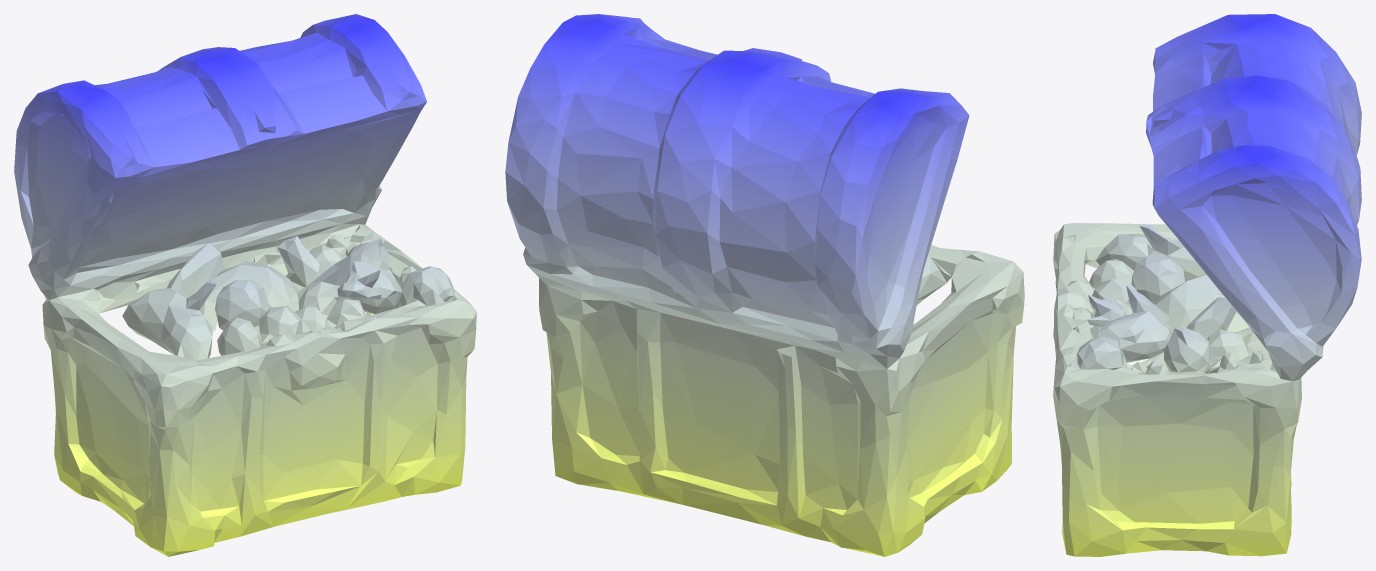
The model's file is 10_cyb_laser_gradient_fish_scales_2962_2026_10_03_e6e8ed.glb.
3 views of the same model, side by side, from view 1: azimuth 30°, elevation 25°; view 2: azimuth 150°, elevation 25°; view 3: azimuth 270°, elevation 25° (orthographic). The views are drawn at different scales.
Parts seen in each view (by area): view 1: geometry_0; view 2: geometry_0; view 3: geometry_0.
Part boxes in pixels (x1=…): geometry_0: x1=14, y1=14, x2=476, y2=556; geometry_0: x1=505, y1=14, x2=1024, y2=556; geometry_0: x1=1053, y1=14, x2=1361, y2=556.
Bounding box in the file's own units: 0.8794 × 1 × 0.7017.
